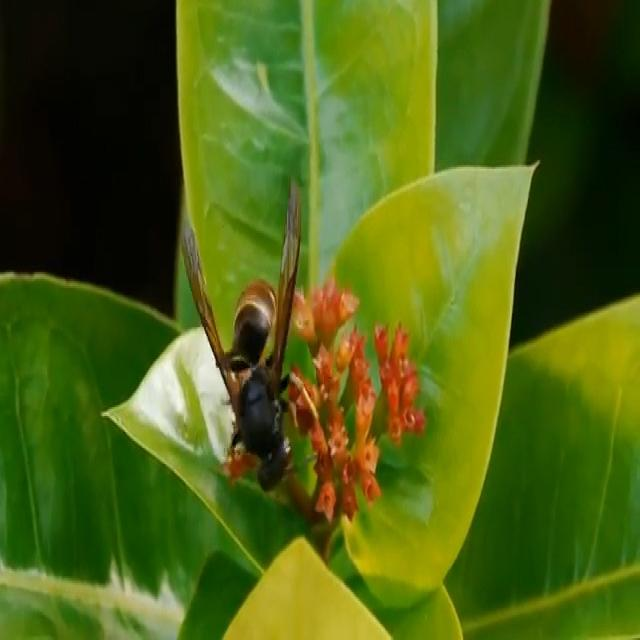Hornets: (180, 175, 304, 499)
